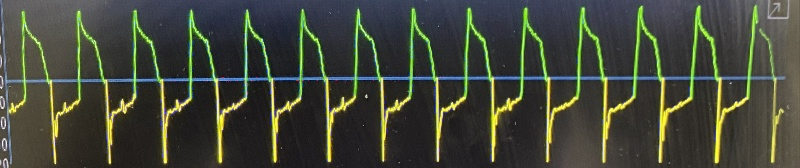hydrop_peepi: (0, 6, 791, 166)
